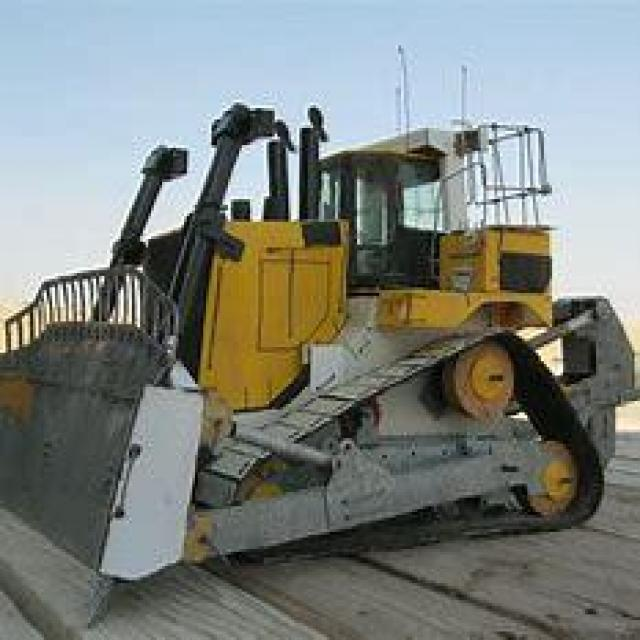Bulldozer: (0, 66, 635, 614)
